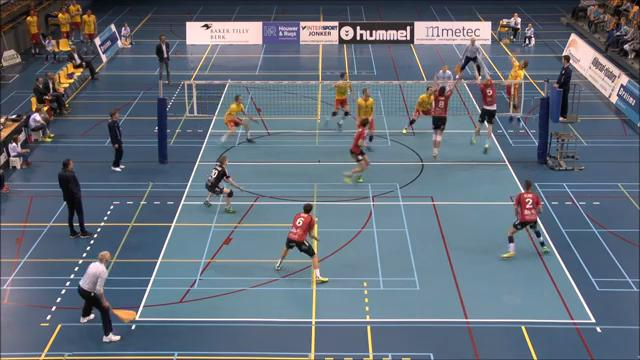Attack: (502, 47, 531, 129)
Block: (430, 67, 463, 162), (468, 58, 497, 158)
Player: (275, 203, 327, 282), (502, 180, 548, 257), (204, 156, 243, 212), (344, 118, 369, 183), (220, 95, 253, 142), (402, 86, 433, 133), (331, 73, 351, 129), (356, 88, 374, 150)
ball: (502, 38, 510, 46)
